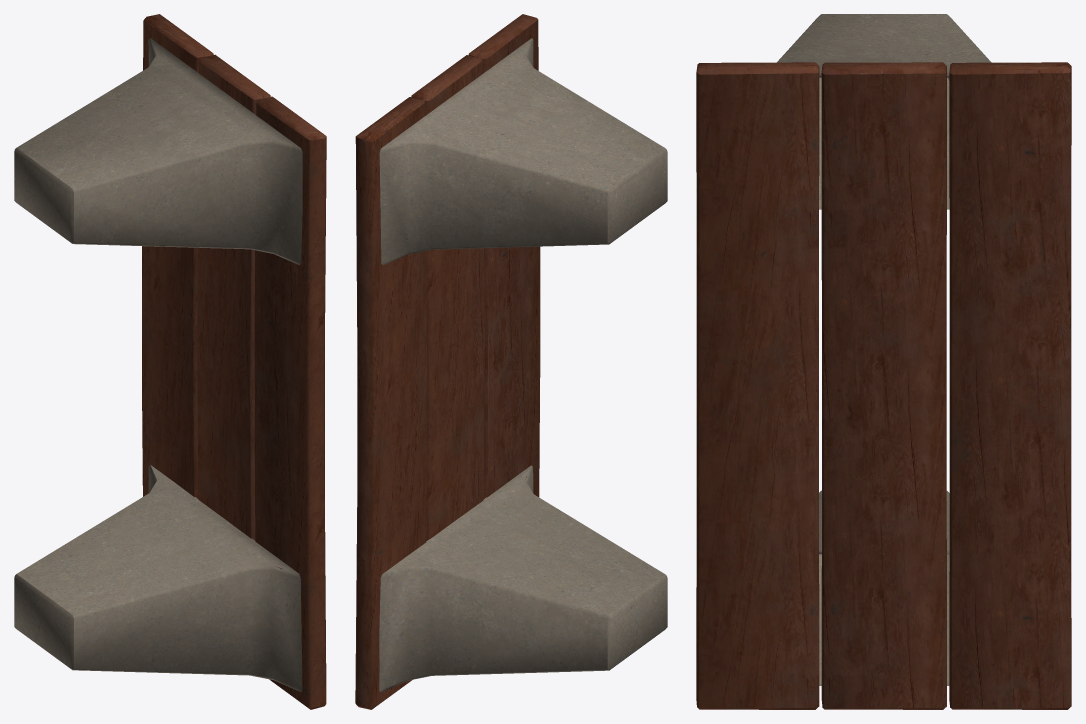
The model's file is cP_Bench09.dae.
The picture shows the model from 3 angles, left to right: view 1: azimuth 30°, elevation 25°; view 2: azimuth 150°, elevation 25°; view 3: azimuth 270°, elevation 25°; orthographic projection. The views are drawn at different scales.
Visible parts, largest first — view 1: cP_Bench09.001; view 2: cP_Bench09.001; view 3: cP_Bench09.001.
Boxes of the visible parts, x1,y1,x2,y2 form: cP_Bench09.001: (14, 14, 326, 709); cP_Bench09.001: (355, 14, 667, 709); cP_Bench09.001: (696, 14, 1071, 709).
Bounding box in the file's own units: 0.4167 × 0.5984 × 1.13.
